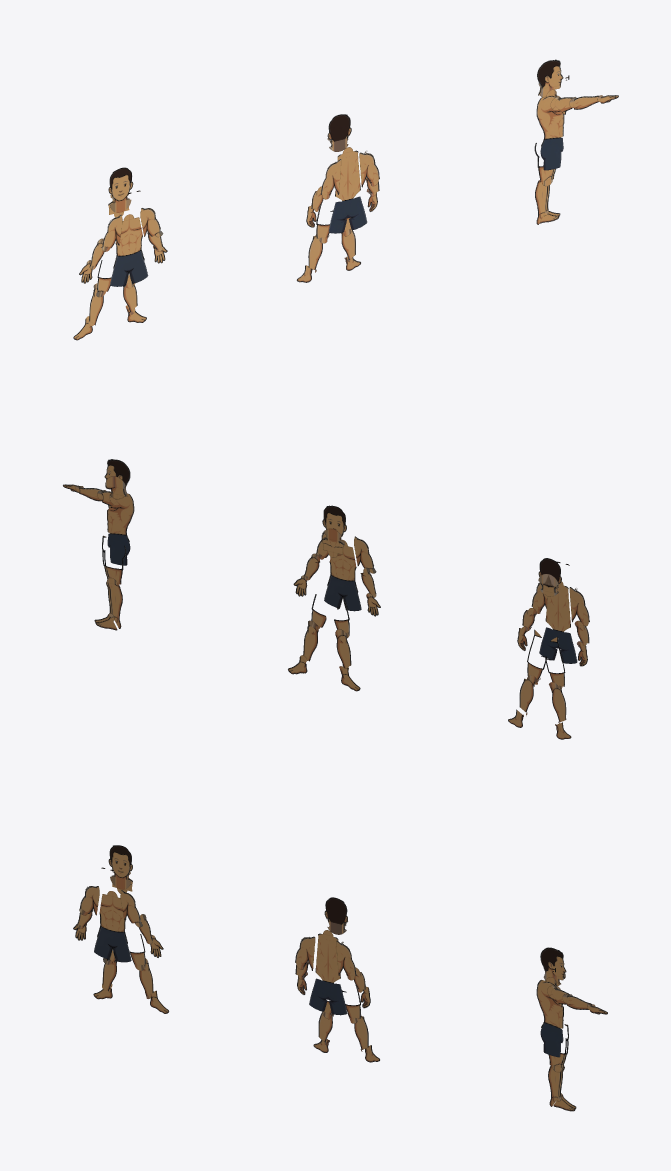
The model's file is Human_Man_Paper.GLB.
3 renders of one model, top to bottom at view 1: azimuth 30°, elevation 25°; view 2: azimuth 150°, elevation 25°; view 3: azimuth 330°, elevation 25°, orthographic.
Parts seen in each view (by area): view 1: Back_Part_Torso_V1, Front_Part_Torso_V1, Side_Part_Torso_V1, Front_Part_Head_V1, Back_Part_Head_V1, Side_Part_Head_V1, Back_Part_Arm_Upper_Left_V1, Back_Part_Arm_Upper_Right_V1; view 2: FrontBack_Part_Torso_V1, BackBack_Part_Torso_V1, SideBack_Part_Torso_V1, BackBack_Part_Head_V1, SideBack_Part_Shin_V1, FrontBack_Part_Arm_Upper_Left_V1; view 3: Back_Part_Torso_V1, Front_Part_Torso_V1, Side_Part_Torso_V1, Front_Part_Head_V1, Back_Part_Head_V1, Side_Part_Head_V1, Back_Part_Arm_Upper_Right_V1, Back_Part_Arm_Upper_Left_V1.
Boxes of the visible parts, x1=… form: Back_Part_Torso_V1: x1=328, y1=147, x2=367, y2=233; Front_Part_Torso_V1: x1=110, y1=214, x2=148, y2=287; Side_Part_Torso_V1: x1=536, y1=89, x2=564, y2=170; Front_Part_Head_V1: x1=108, y1=167, x2=133, y2=212; Back_Part_Head_V1: x1=327, y1=114, x2=351, y2=151; Side_Part_Head_V1: x1=537, y1=59, x2=563, y2=97; Back_Part_Arm_Upper_Left_V1: x1=359, y1=150, x2=379, y2=187; Back_Part_Arm_Upper_Right_V1: x1=321, y1=159, x2=341, y2=199; FrontBack_Part_Torso_V1: x1=539, y1=581, x2=577, y2=663; BackBack_Part_Torso_V1: x1=324, y1=539, x2=361, y2=611; SideBack_Part_Torso_V1: x1=107, y1=493, x2=134, y2=565; BackBack_Part_Head_V1: x1=322, y1=505, x2=346, y2=546; SideBack_Part_Shin_V1: x1=106, y1=577, x2=122, y2=628; FrontBack_Part_Arm_Upper_Left_V1: x1=569, y1=587, x2=589, y2=626; Back_Part_Torso_V1: x1=309, y1=930, x2=347, y2=1015; Front_Part_Torso_V1: x1=94, y1=891, x2=131, y2=962; Side_Part_Torso_V1: x1=536, y1=977, x2=563, y2=1057; Front_Part_Head_V1: x1=108, y1=845, x2=132, y2=889; Back_Part_Head_V1: x1=324, y1=897, x2=347, y2=934; Side_Part_Head_V1: x1=540, y1=947, x2=566, y2=985; Back_Part_Arm_Upper_Right_V1: x1=295, y1=936, x2=315, y2=970; Back_Part_Arm_Upper_Left_V1: x1=336, y1=940, x2=356, y2=980.
Size of the model in its own units: 6.6 by 2 by 0.4515.
81 materials, 81 textured.
